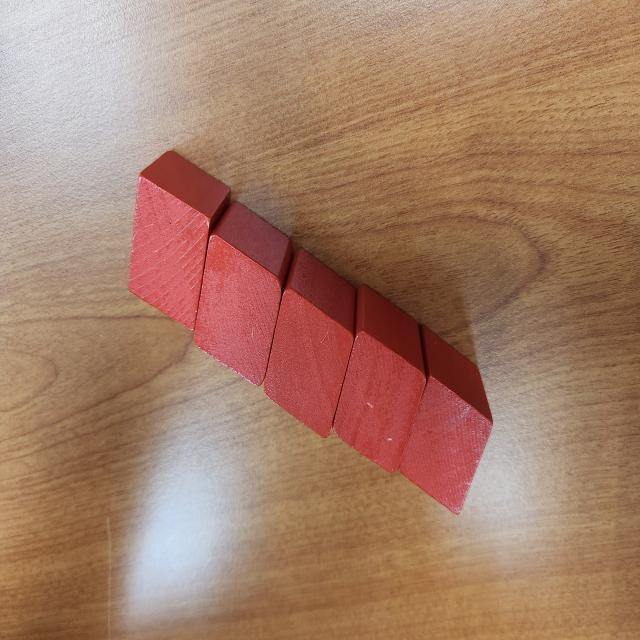red: (192, 201, 295, 387), (397, 324, 494, 516), (128, 150, 232, 329), (332, 282, 426, 476), (263, 248, 356, 440)
